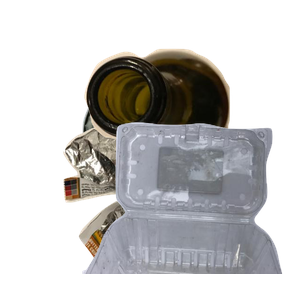glass: (82, 46, 300, 199)
metal: (80, 68, 284, 248)
plastic: (80, 120, 300, 300)
trash: (61, 123, 273, 300)
